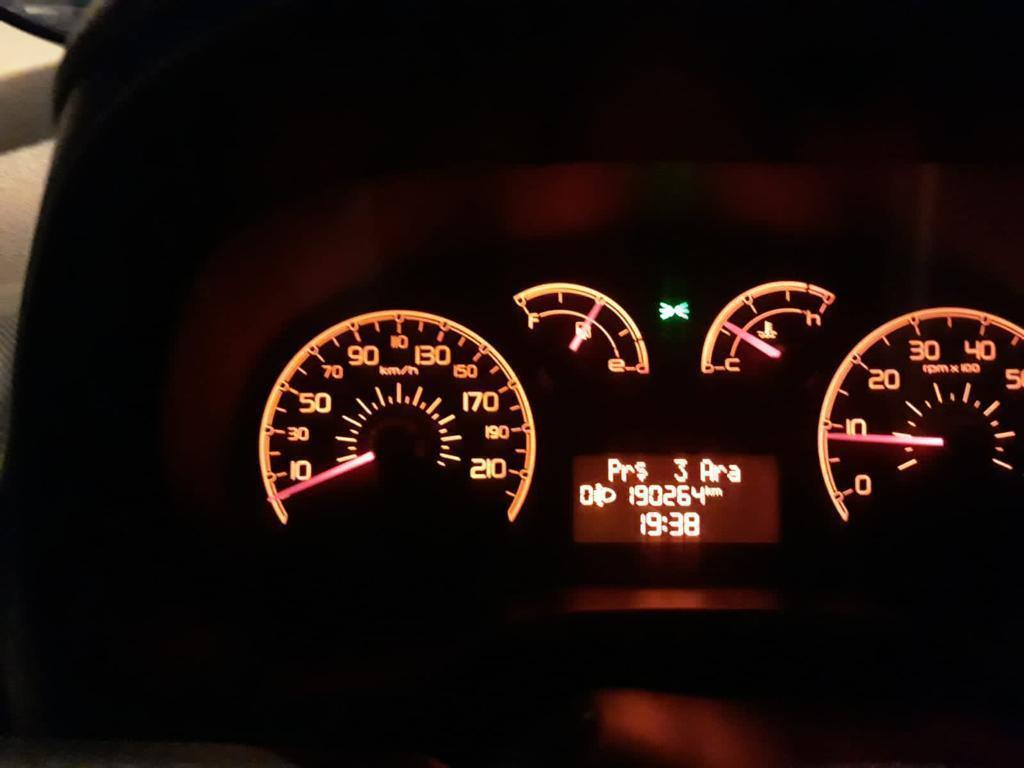0: (578, 483, 593, 506), (648, 483, 662, 507)
1: (639, 511, 646, 536), (626, 485, 634, 505)
2: (662, 484, 676, 507)
3: (671, 456, 689, 483), (669, 511, 683, 537)
4: (691, 484, 705, 506)
6: (676, 483, 691, 507)
8: (683, 511, 701, 537)
9: (645, 511, 661, 537), (633, 483, 648, 507)
X: (604, 456, 621, 483), (698, 457, 714, 483), (634, 459, 649, 482), (727, 463, 742, 483), (620, 463, 635, 483), (713, 462, 727, 483), (711, 486, 723, 497), (661, 514, 668, 532), (705, 484, 711, 496)
odometer: (565, 446, 787, 549)
